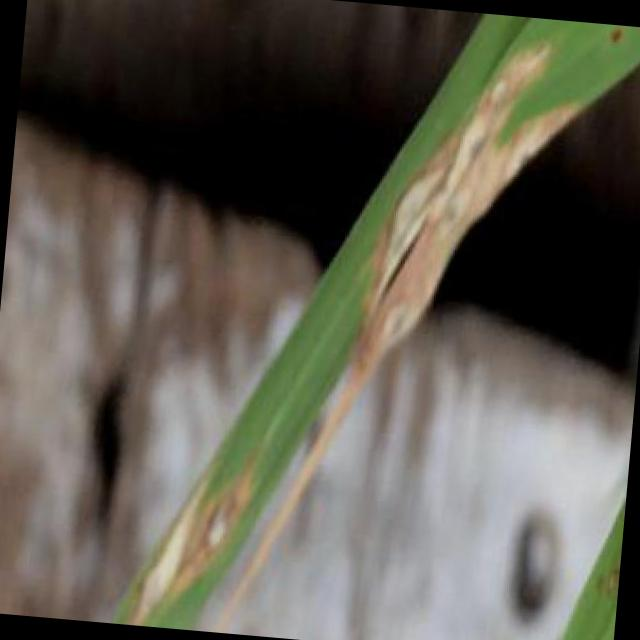Rice_Blast: (328, 28, 590, 378), (177, 462, 260, 564)
